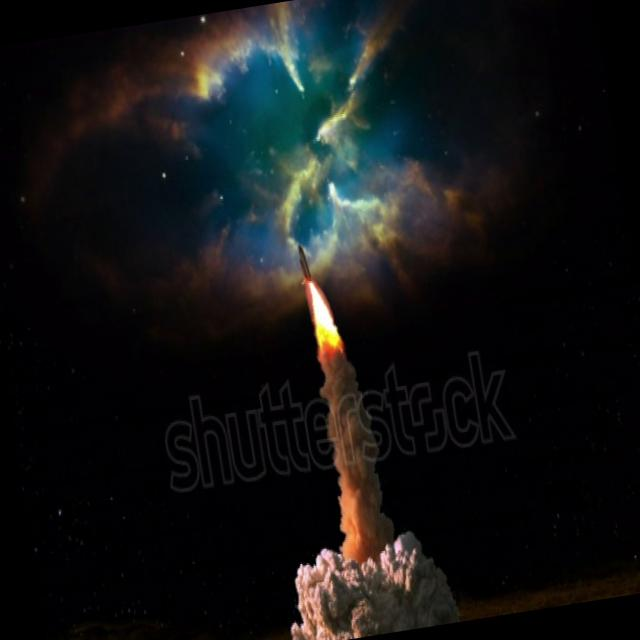rocket: (292, 234, 355, 416)
